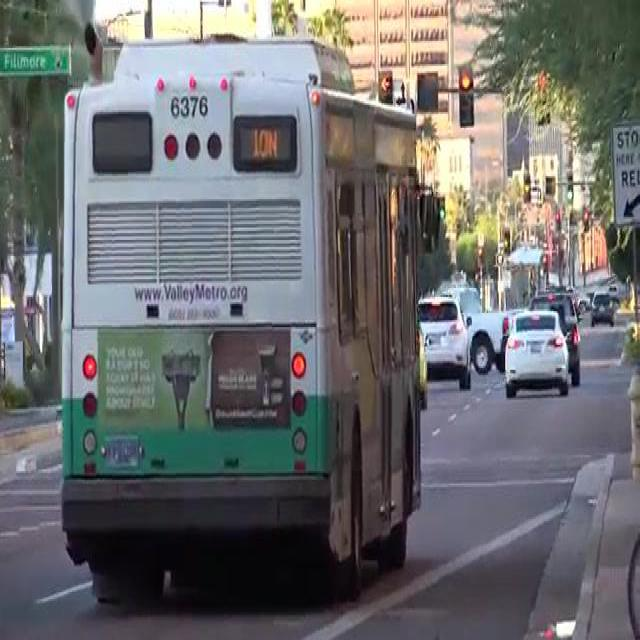motorcycle: (30, 32, 472, 590)
